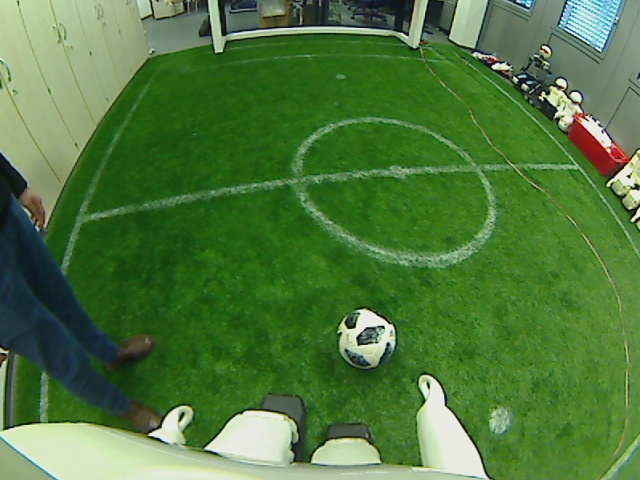ball: (334, 307, 398, 372)
